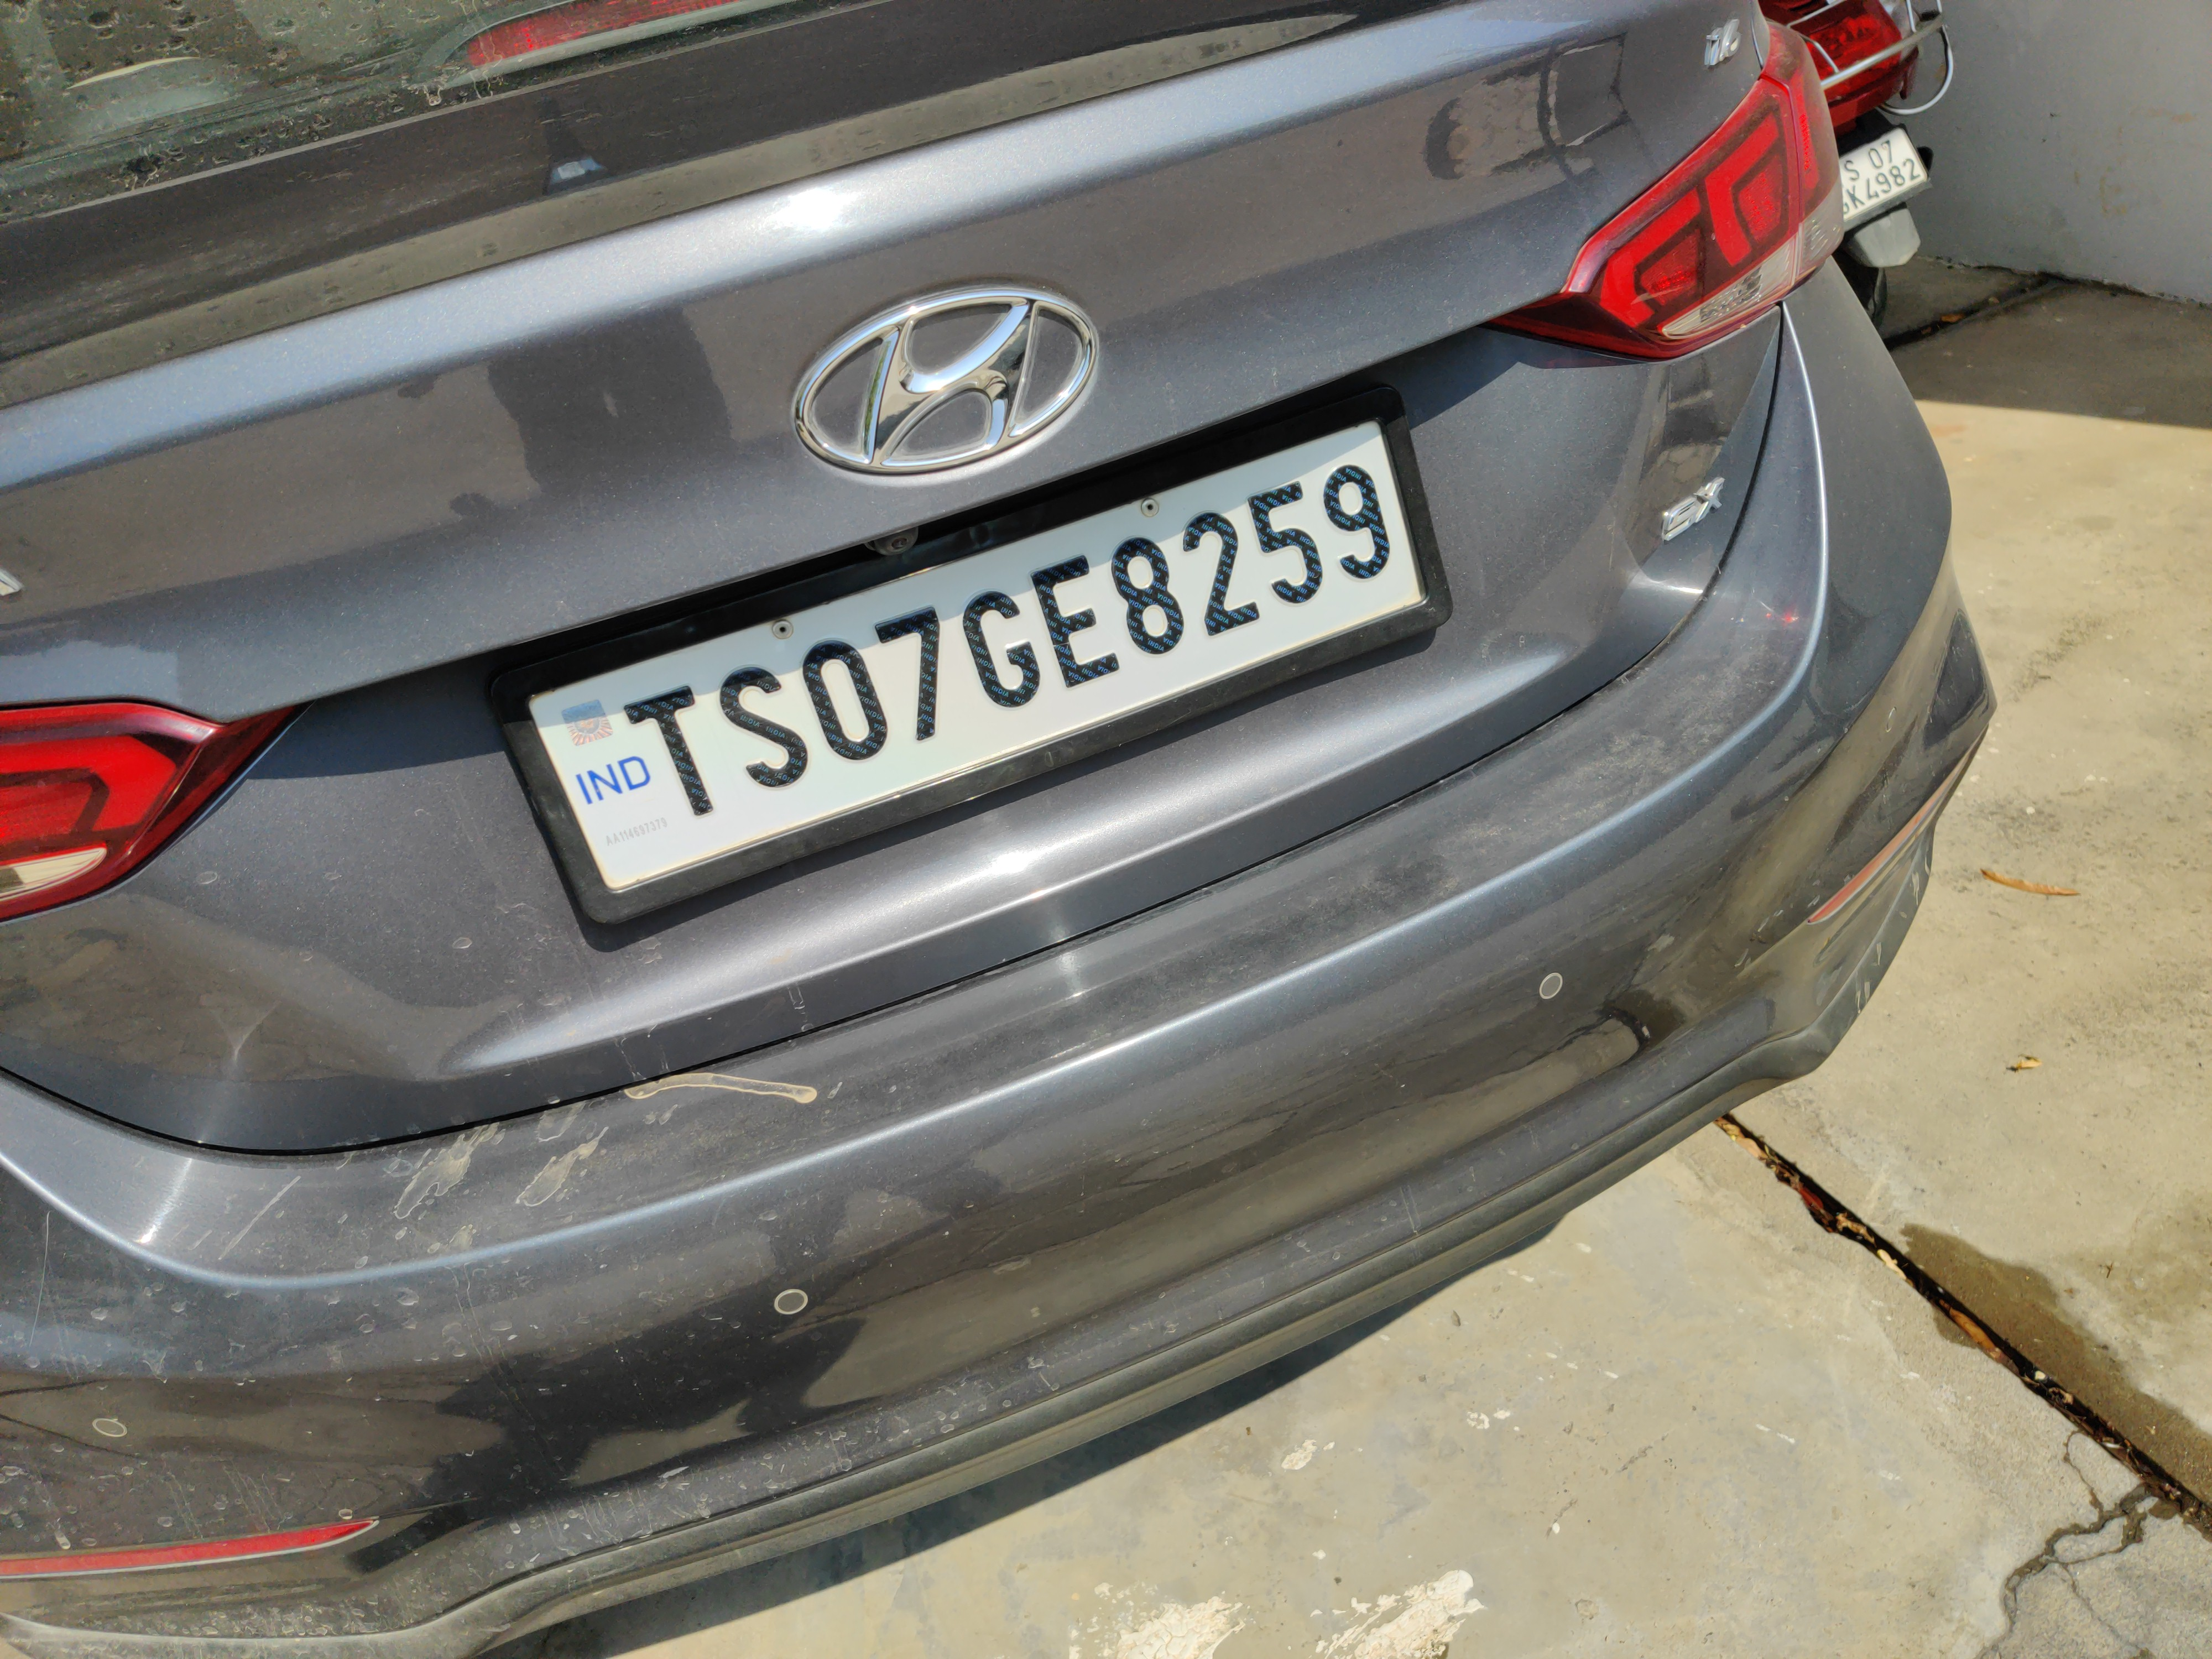plate: (479, 375, 1530, 969)
